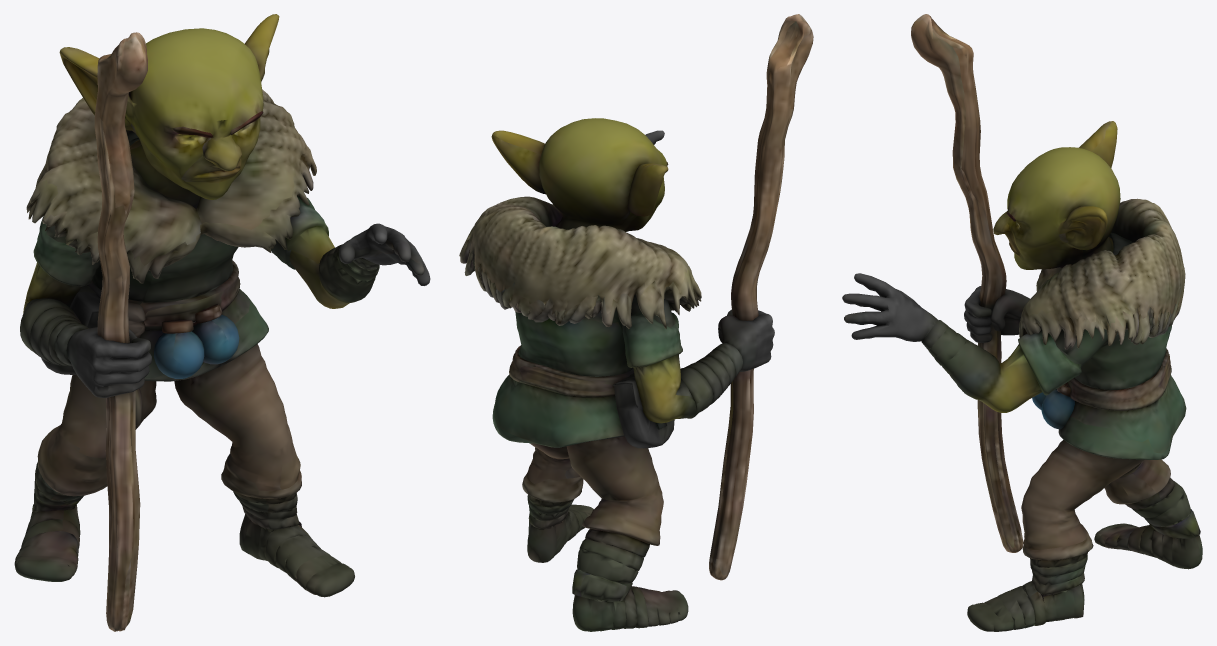
Rendered from MZ4250 - Goblin Psionic_1.glb.
The picture shows the model from 3 angles, left to right: view 1: azimuth 30°, elevation 25°; view 2: azimuth 150°, elevation 25°; view 3: azimuth 270°, elevation 25°; orthographic projection. The views are drawn at different scales.
Visible parts, largest first — view 1: Goblin Psionic.001; view 2: Goblin Psionic.001; view 3: Goblin Psionic.001.
Boxes of the visible parts, box(x1,y1,x2,y2) form: Goblin Psionic.001: box(14, 14, 430, 631); Goblin Psionic.001: box(459, 14, 813, 631); Goblin Psionic.001: box(842, 14, 1202, 631).
Size of the model in its own units: 29.25 by 60.15 by 37.55.
1 material, 1 textured.
